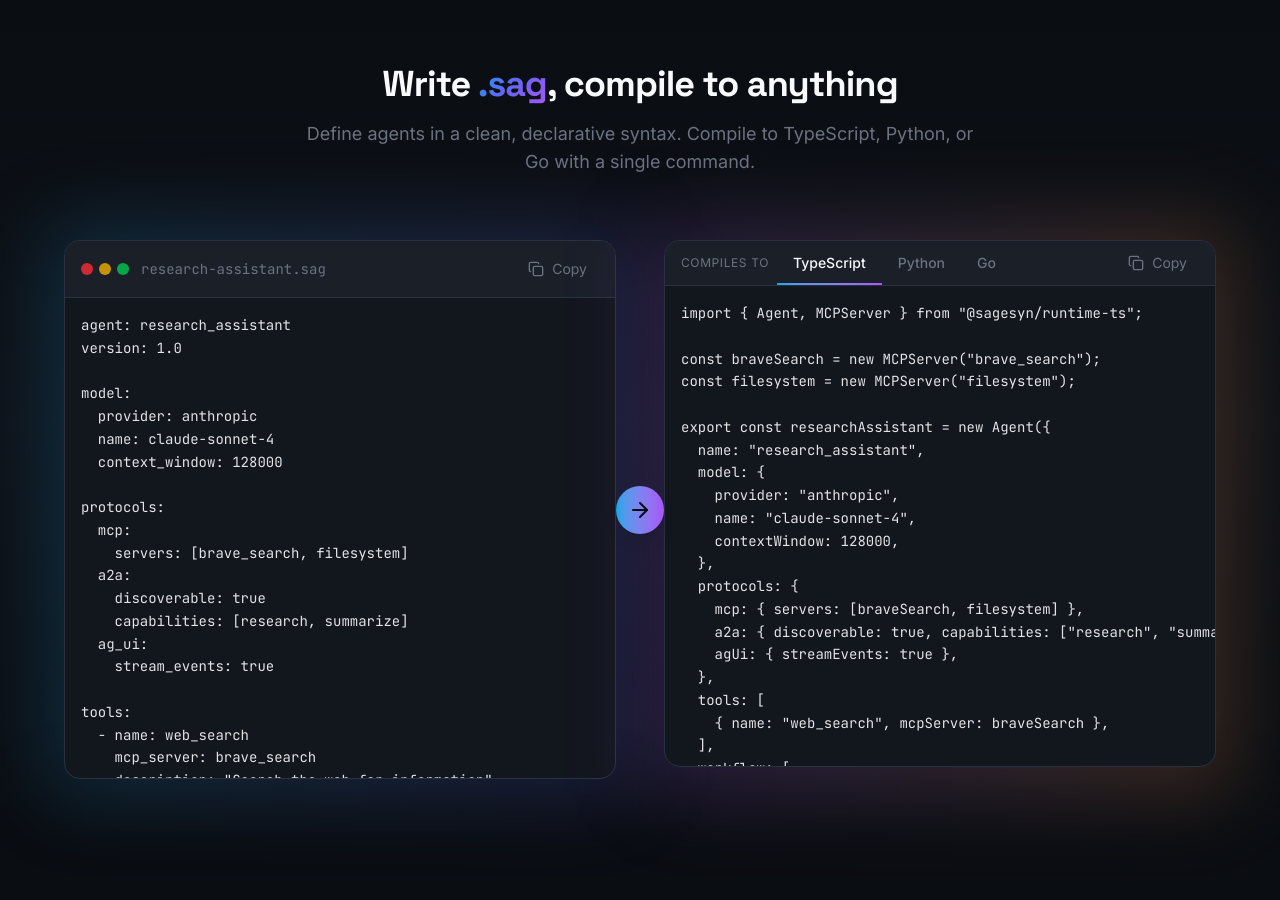
Test: AgentLanguageShowcase component › shows Copied! after clicking copy button
This screenshot has width=1280, height=900.
Click the button "Copy" in the row of "research-assistant.sag" at (558, 269), box [516,253,599,285]
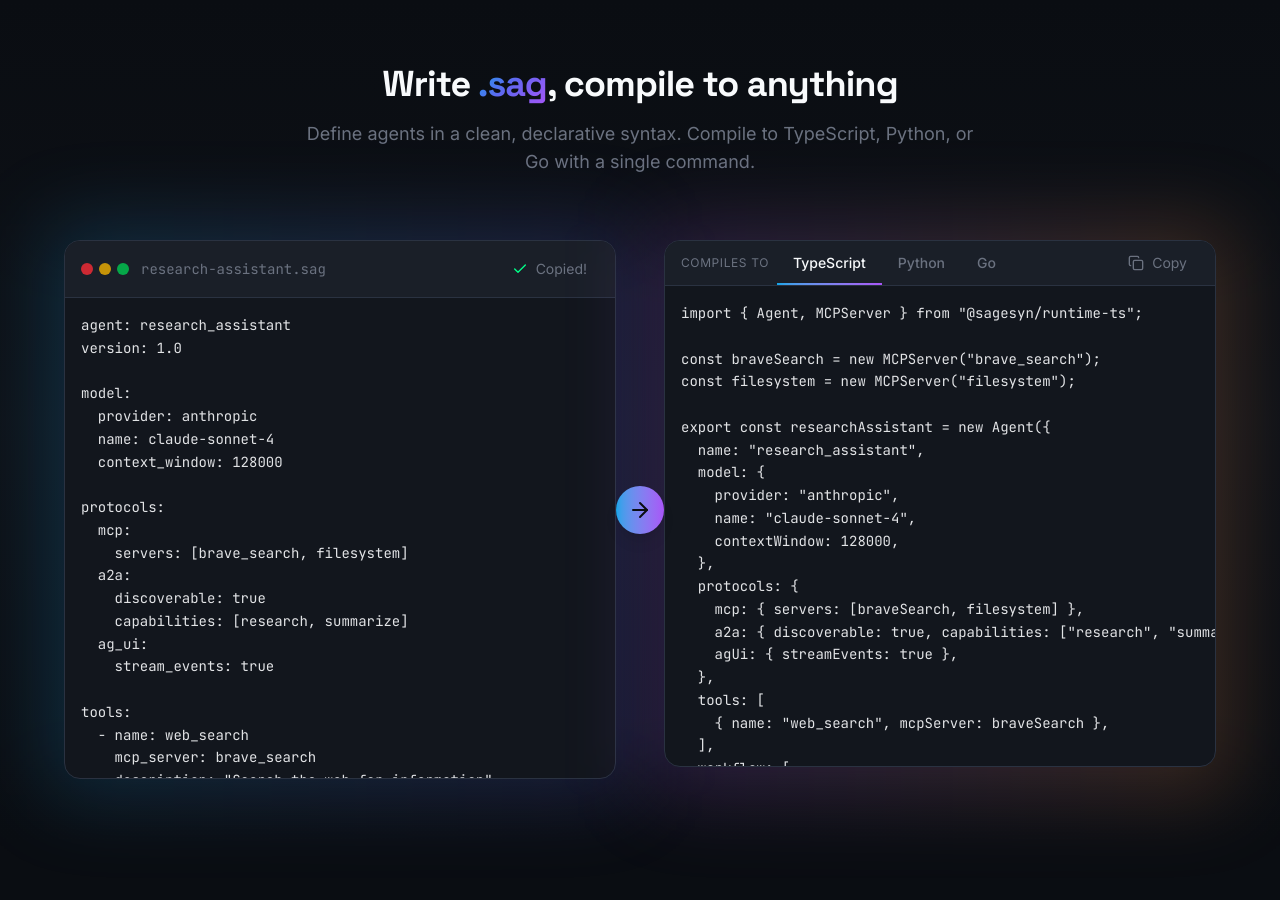
Result: the button "Copied!" is shown at [500,253,599,285]
